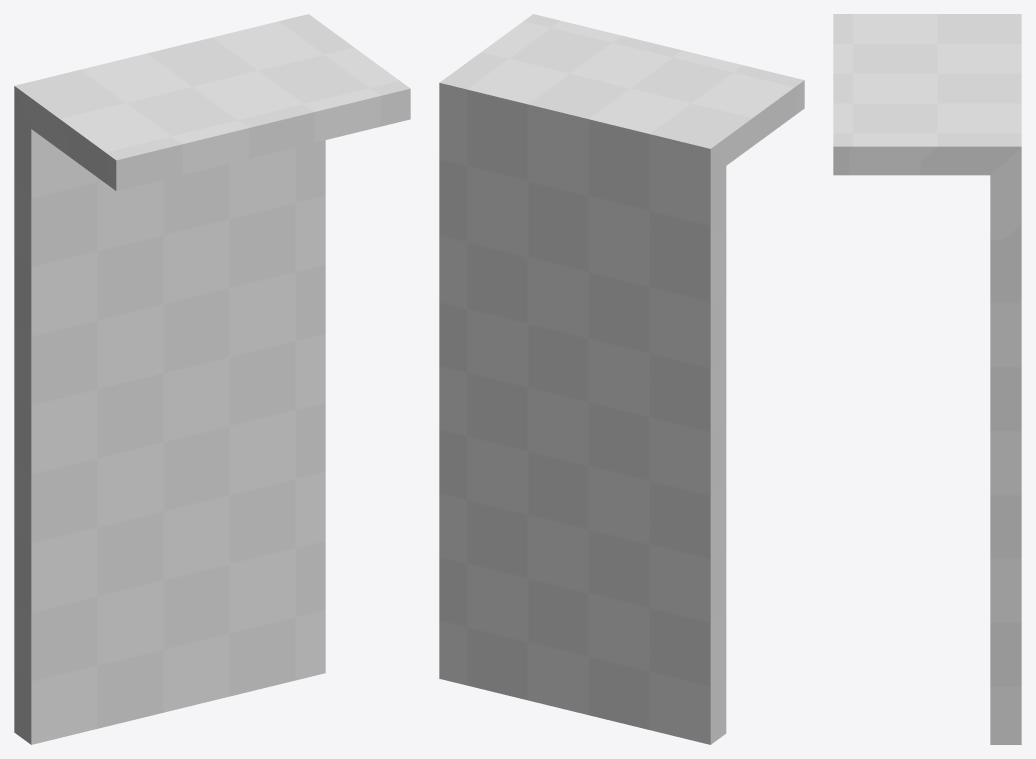
The model's file is enginehall_end_middle.fbx.
3 views of the same model, side by side, from view 1: azimuth 30°, elevation 25°; view 2: azimuth 150°, elevation 25°; view 3: azimuth 270°, elevation 25° (orthographic). The views are drawn at different scales.
Parts seen in each view (by area): view 1: enginehall_end_middle; view 2: enginehall_end_middle; view 3: enginehall_end_middle.
Part boxes in pixels (left/top/right/bottom): enginehall_end_middle: left=14, top=14, right=410, bottom=744; enginehall_end_middle: left=439, top=14, right=804, bottom=744; enginehall_end_middle: left=833, top=14, right=1021, bottom=744.
Bounding box in the file's own units: 200 × 420 × 120.
